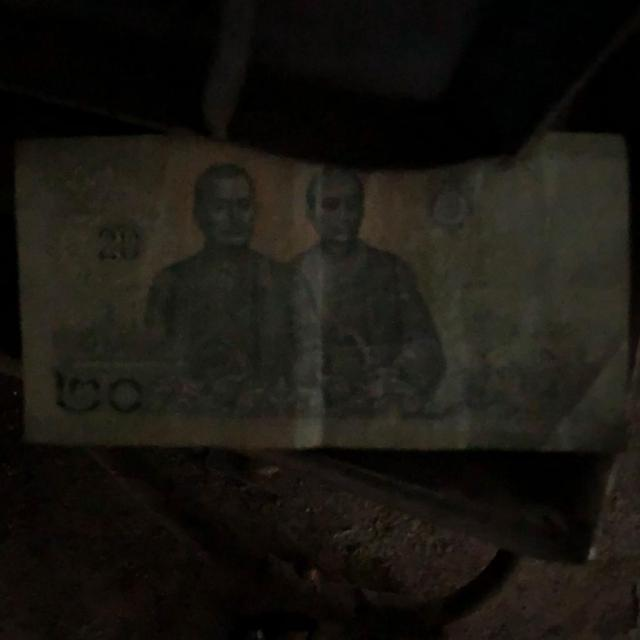THAI20: (15, 129, 632, 455)
